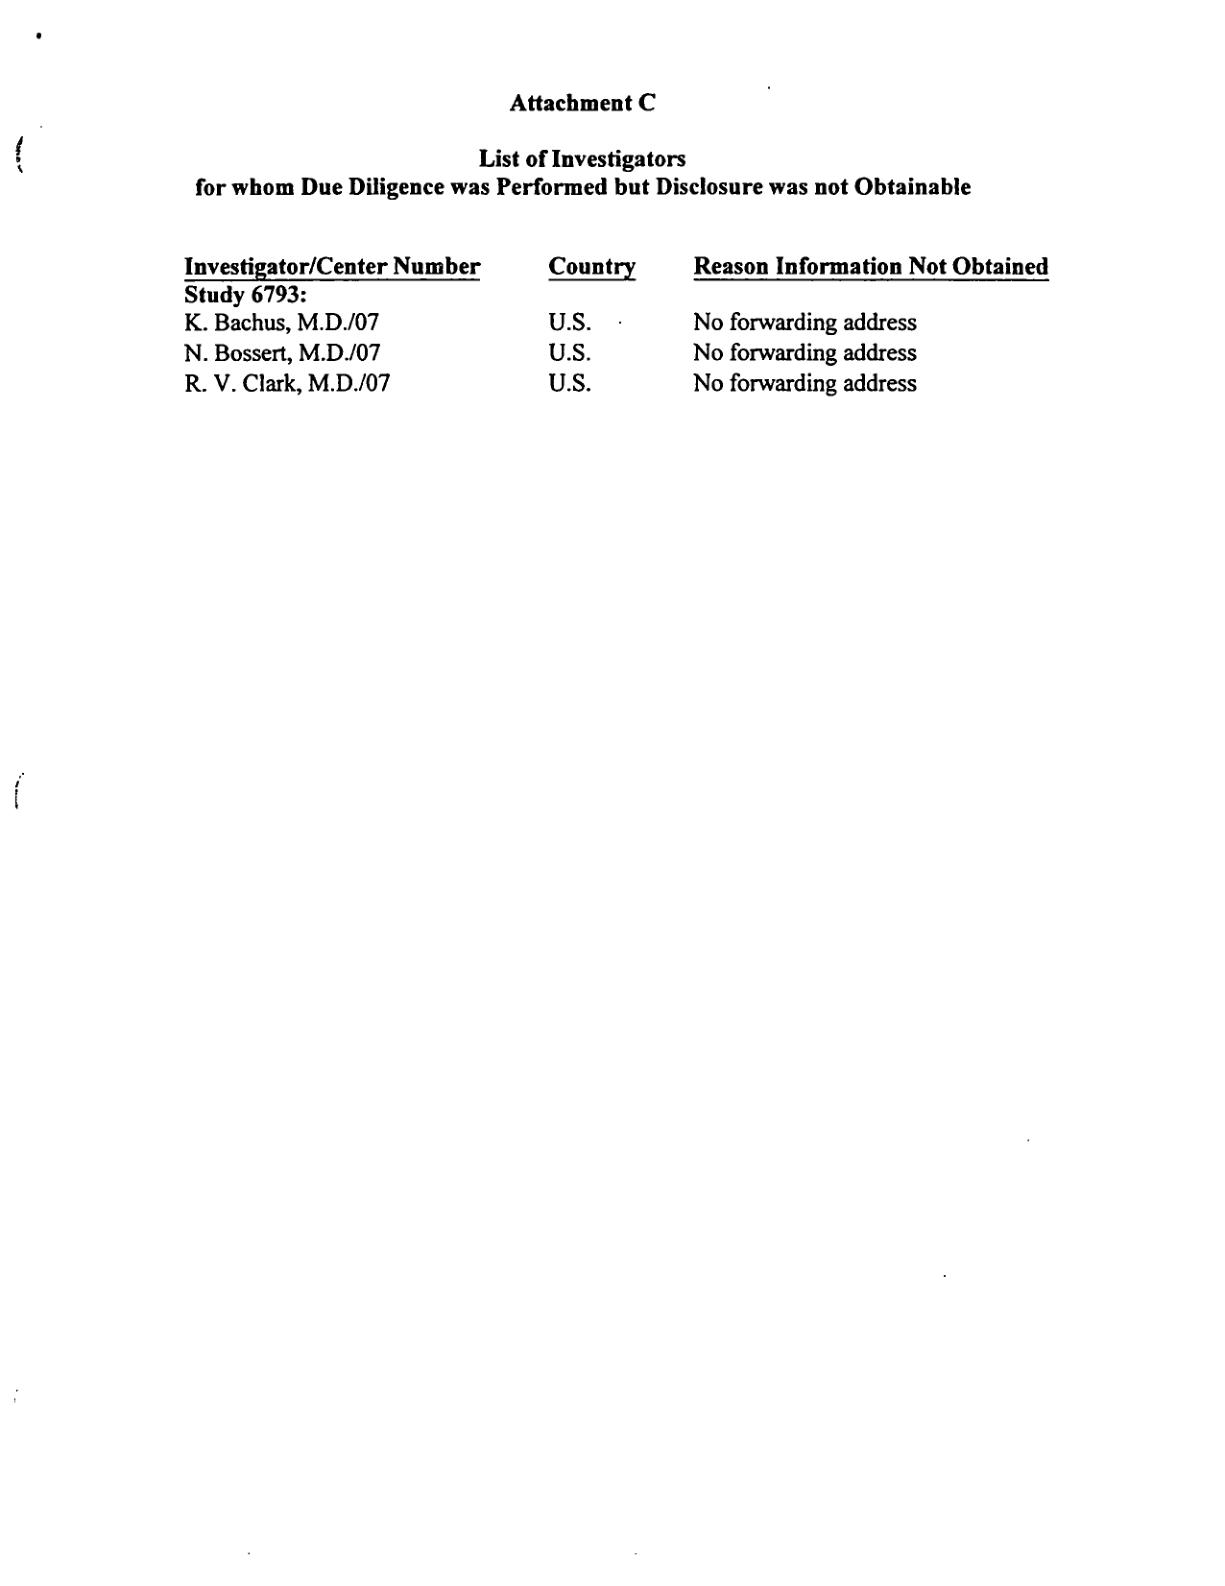nolines: (180, 241, 1056, 403)
